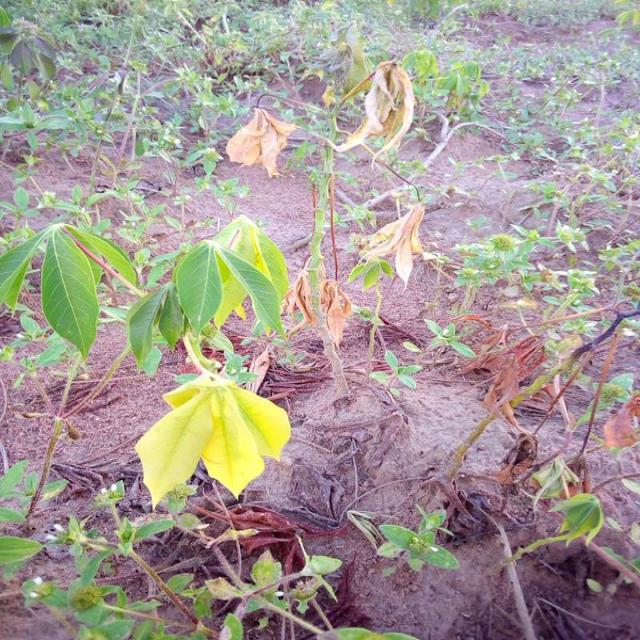cassava leaf: (134, 371, 291, 510), (39, 225, 100, 362)
